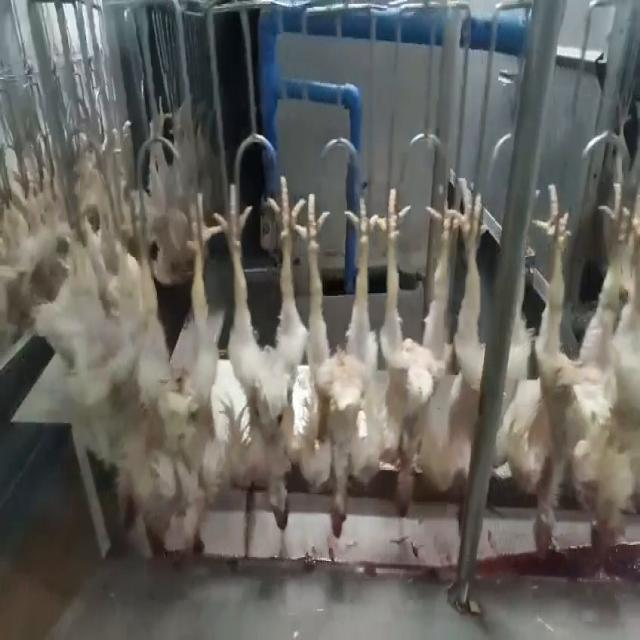chicken: (529, 182, 639, 578), (121, 174, 225, 564), (218, 167, 302, 527), (368, 186, 449, 525), (300, 195, 377, 541), (421, 178, 505, 492)
